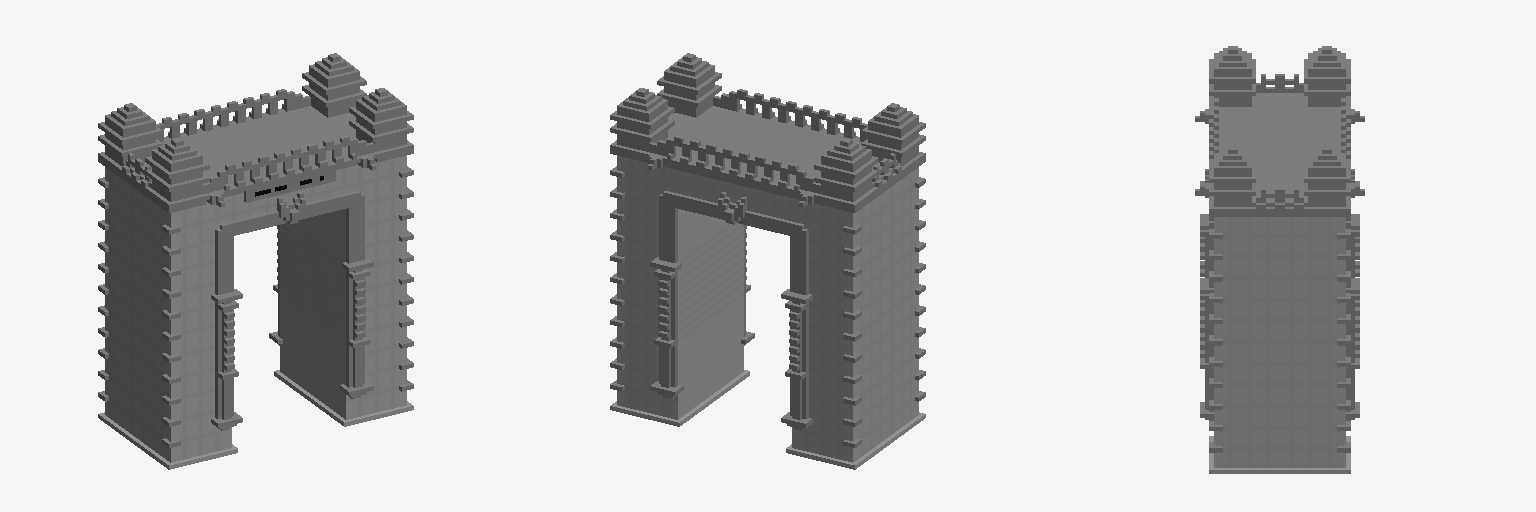
The picture shows the model from 3 angles: view 1: azimuth 30°, elevation 25°; view 2: azimuth 150°, elevation 25°; view 3: azimuth 270°, elevation 25°; orthographic projection.
Size of the model in its own units: 60 by 74 by 36.
Materials: 1 (1 with a texture image).